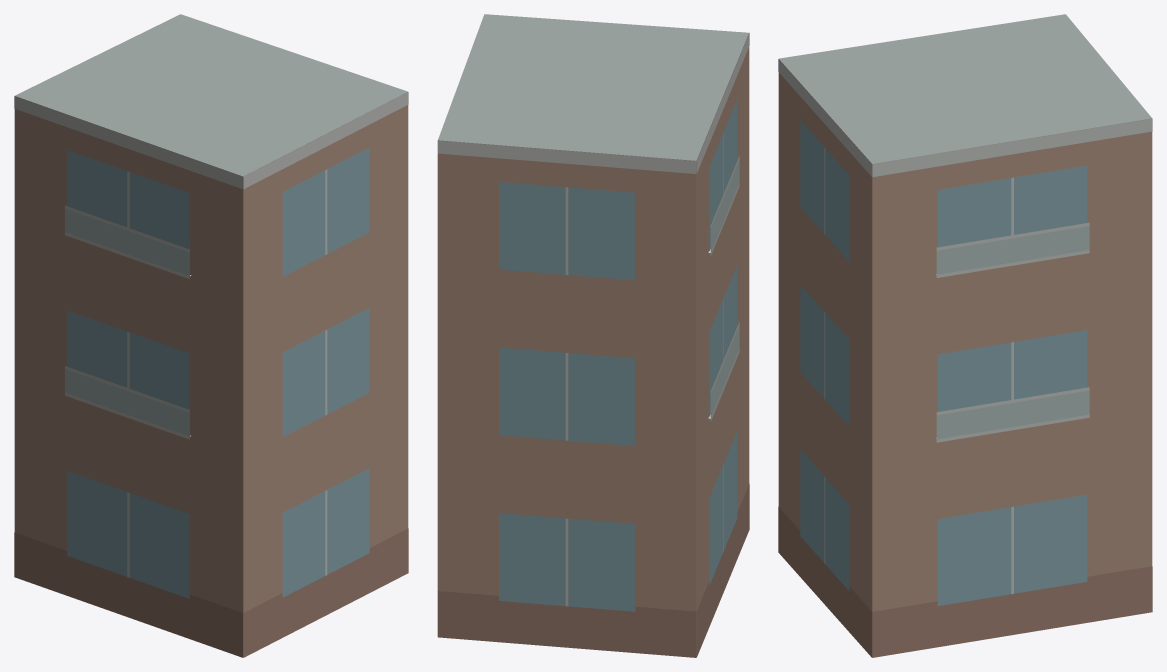
The model's file is survey-upis-32582252.glb.
3 renders of one model, left to right at view 1: azimuth 30°, elevation 25°; view 2: azimuth 150°, elevation 25°; view 3: azimuth 270°, elevation 25°, orthographic. The views are drawn at different scales.
Parts seen in each view (by area): view 1: survey-upis-32582252.tmp; view 2: survey-upis-32582252.tmp; view 3: survey-upis-32582252.tmp.
Boxes of the visible parts, box(x1,y1,x2,y2) form: survey-upis-32582252.tmp: box(14, 14, 408, 657); survey-upis-32582252.tmp: box(437, 14, 749, 657); survey-upis-32582252.tmp: box(778, 14, 1152, 657).
Bounding box in the file's own units: 5.97 × 9.15 × 6.29.
